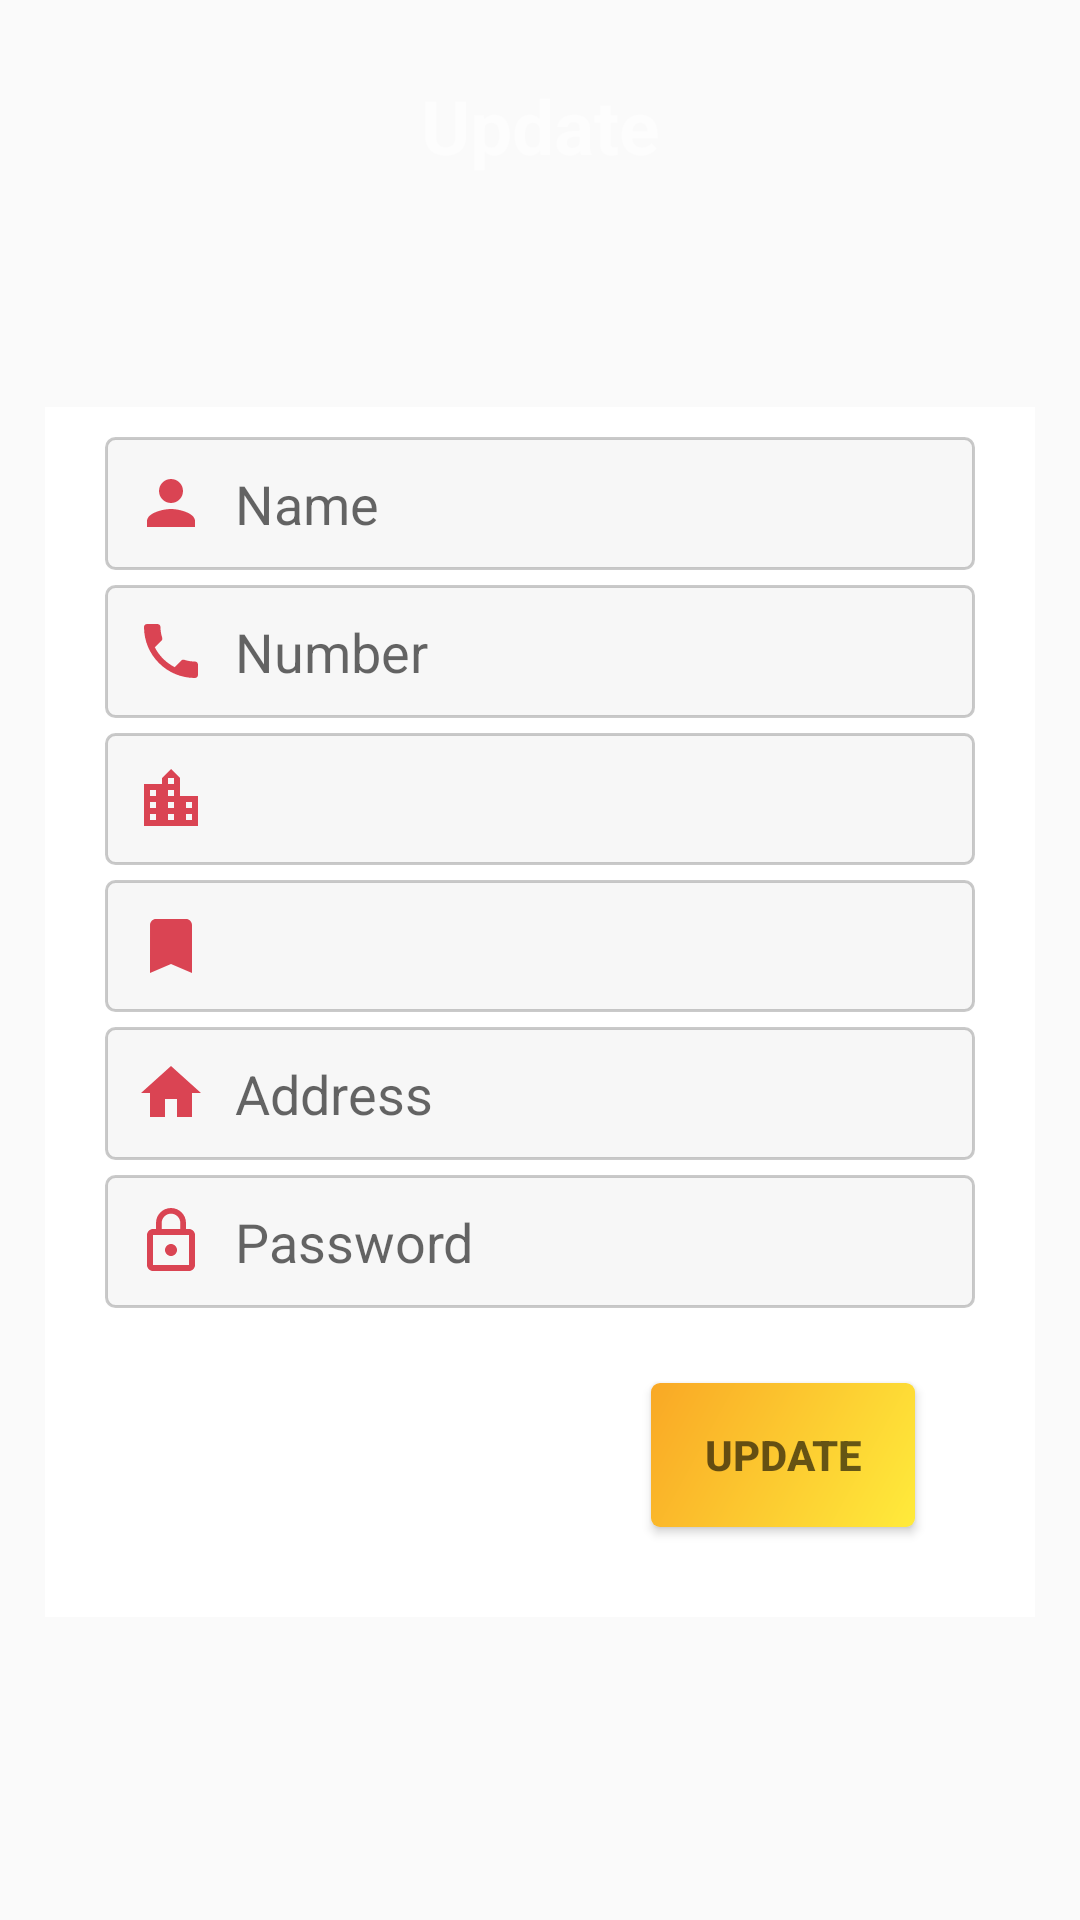

Where icons sit on this 1080w x 1920h app screen, as (x1, y1, x2, y2):
bookmark: (150, 919, 192, 973)
location city: (144, 769, 198, 826)
